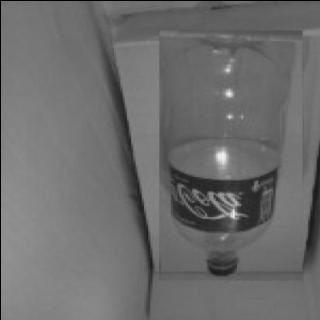plastic_bottles: (158, 29, 302, 280)
